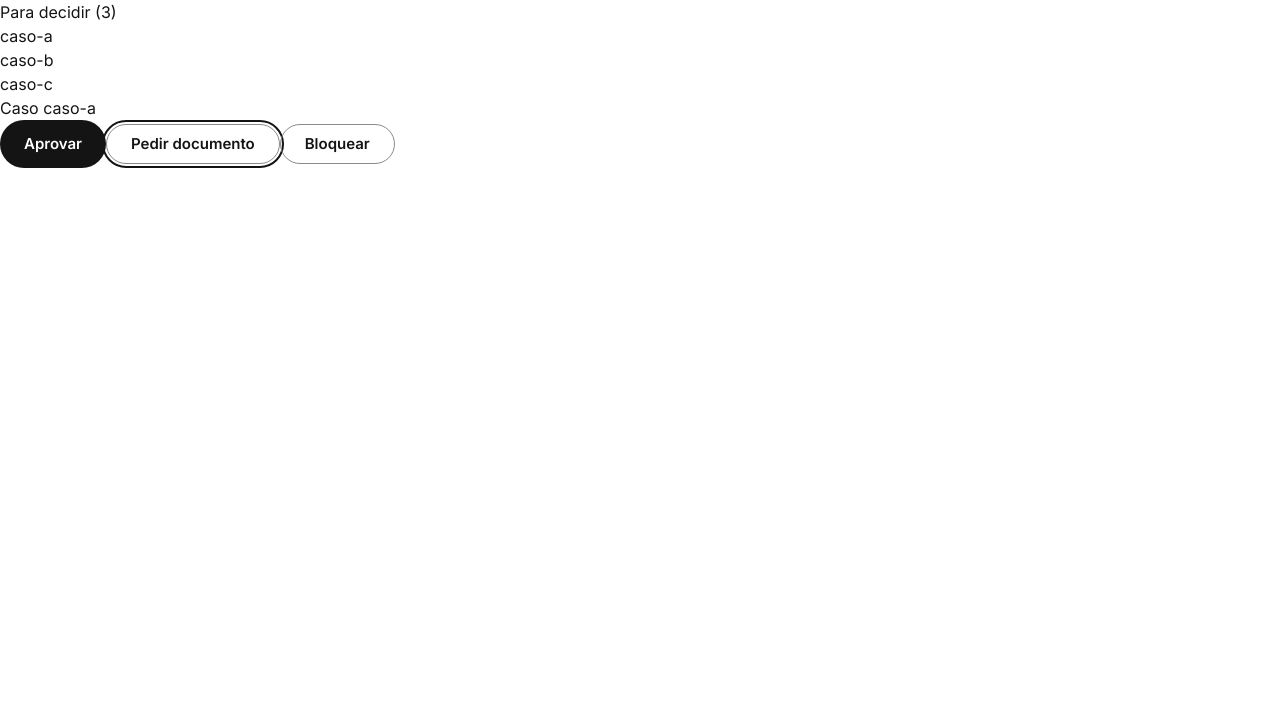
Test: Pedir documento dialog (T108; AC 36, AC 37; D10, D11; F5, F6, F7) › with an e-mail, on ok: the dialog closes, toast.requested + toast.audit, then /fila/{next} (D5)
Click the button "Pedir documento".
click(193, 144)  # box [106,124,280,164]
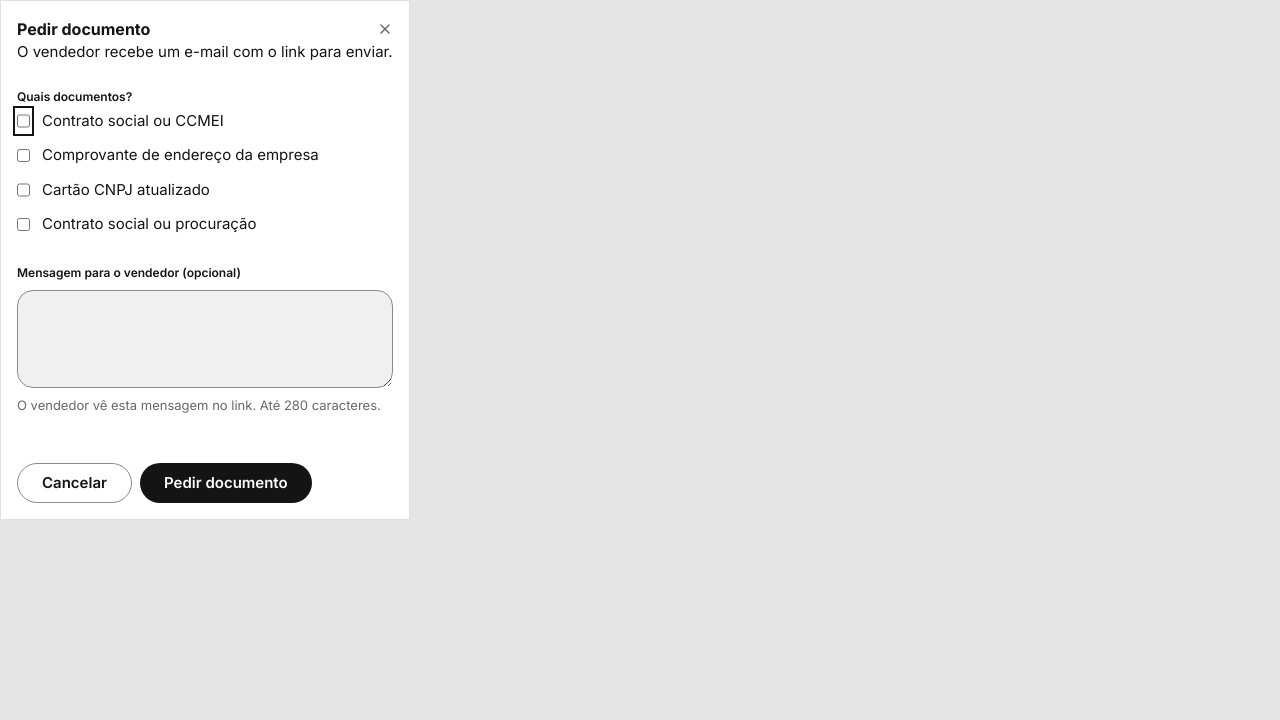
Click the checkbox labelled "Cartão CNPJ atualizado".
click(24, 190)  # box [17,178,30,201]
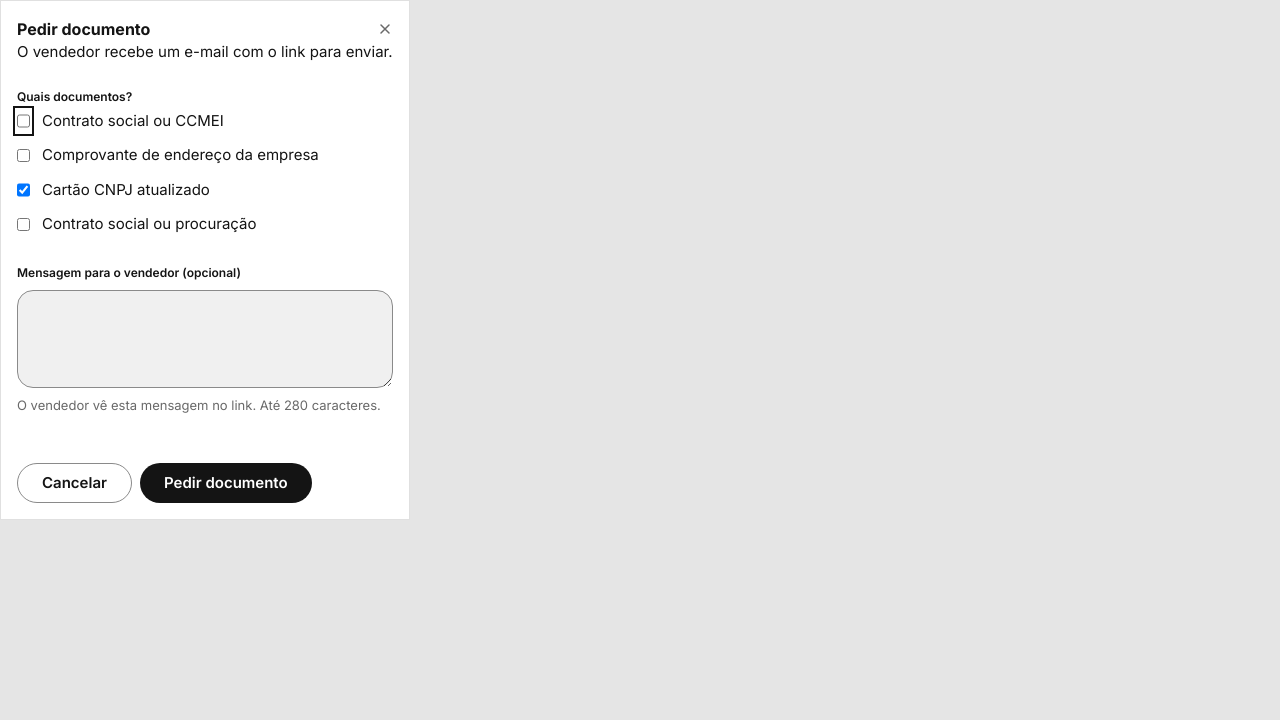
Click the button "Pedir documento" below "Mensagem para o vendedor (opcional)".
click(226, 483)  # box [140,463,312,503]
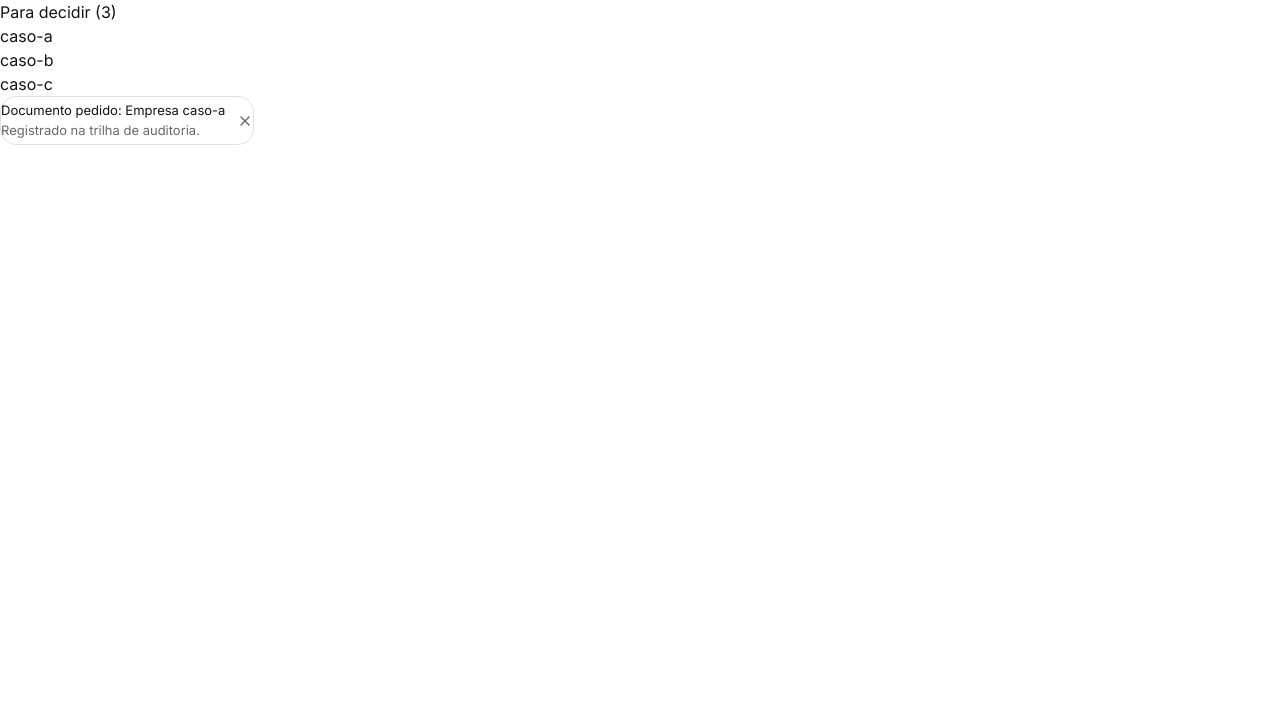
Check: the dialog is gone
